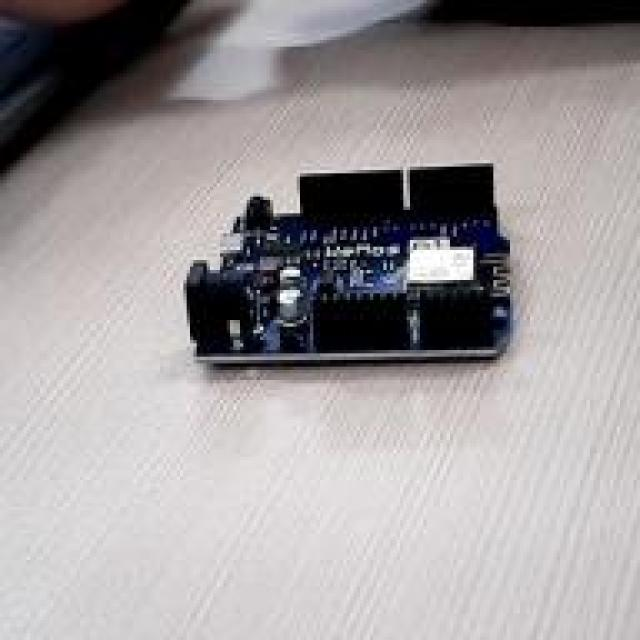Wemos: (184, 164, 511, 361)
